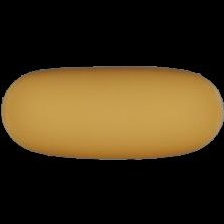68084-022: (0, 0, 224, 224)
